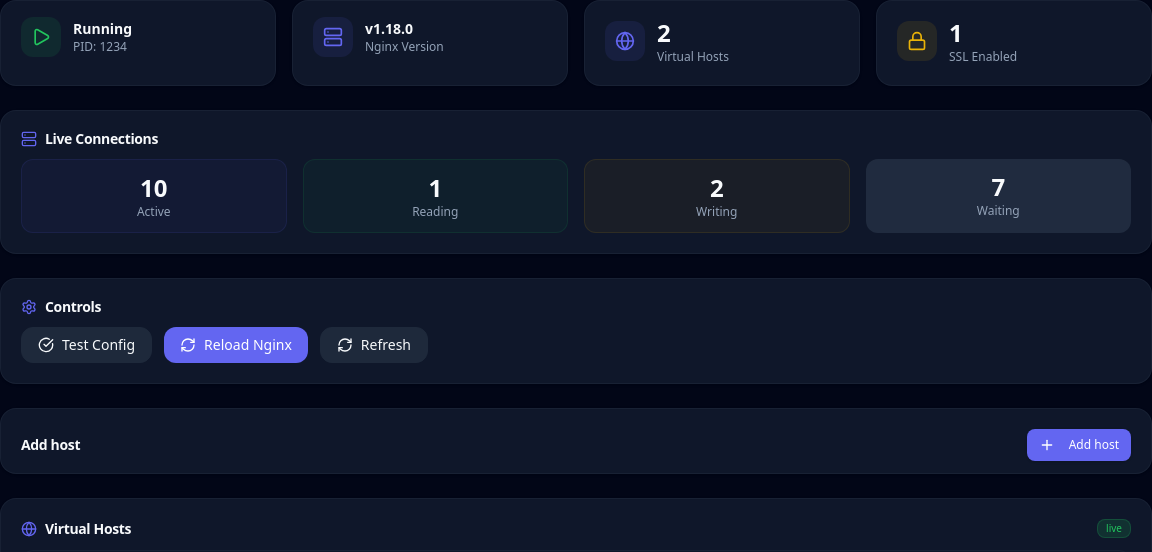
Test case: NginxPage › handles reload failure
Click the button "Reload Nginx".
click(236, 345)  # box [164,327,308,363]
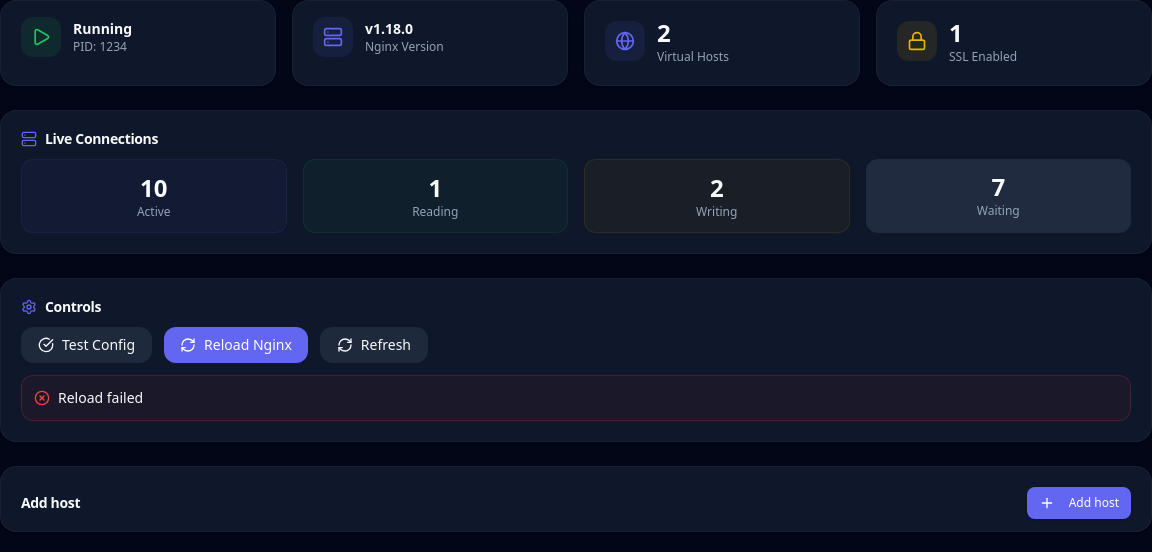
Result: the text "Reload failed" is shown at [58,388,143,408]
